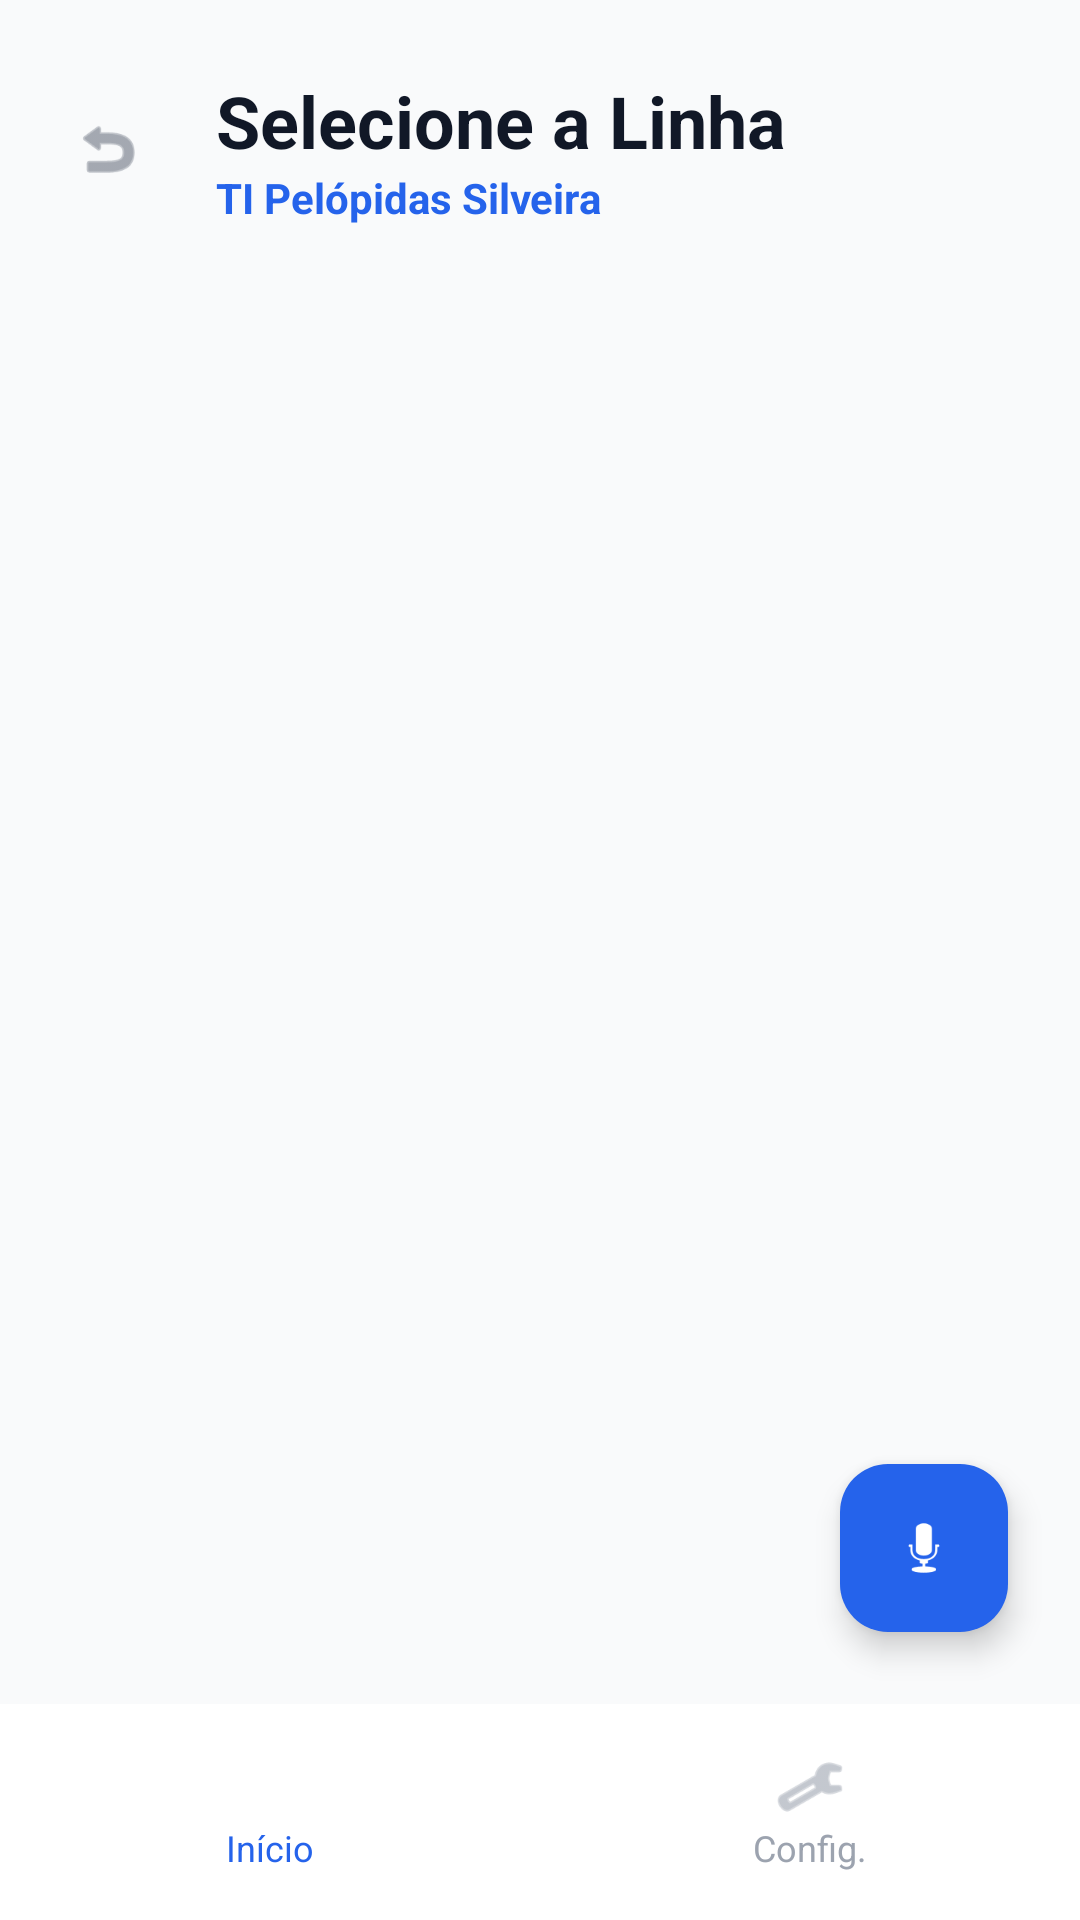

Screen size 1080x1920. Icon name, then its center in pixels as (x,y):
revert: (109,149)
speak now: (924,1548)
